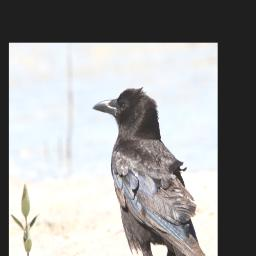Crow: (91, 86, 206, 256)
